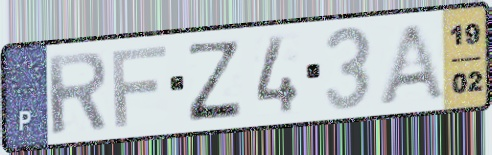3: (322, 23, 377, 113)
4: (253, 32, 303, 117)
A: (375, 20, 450, 104)
F: (108, 43, 170, 130)
R: (44, 48, 110, 137)
Z: (185, 39, 245, 124)
